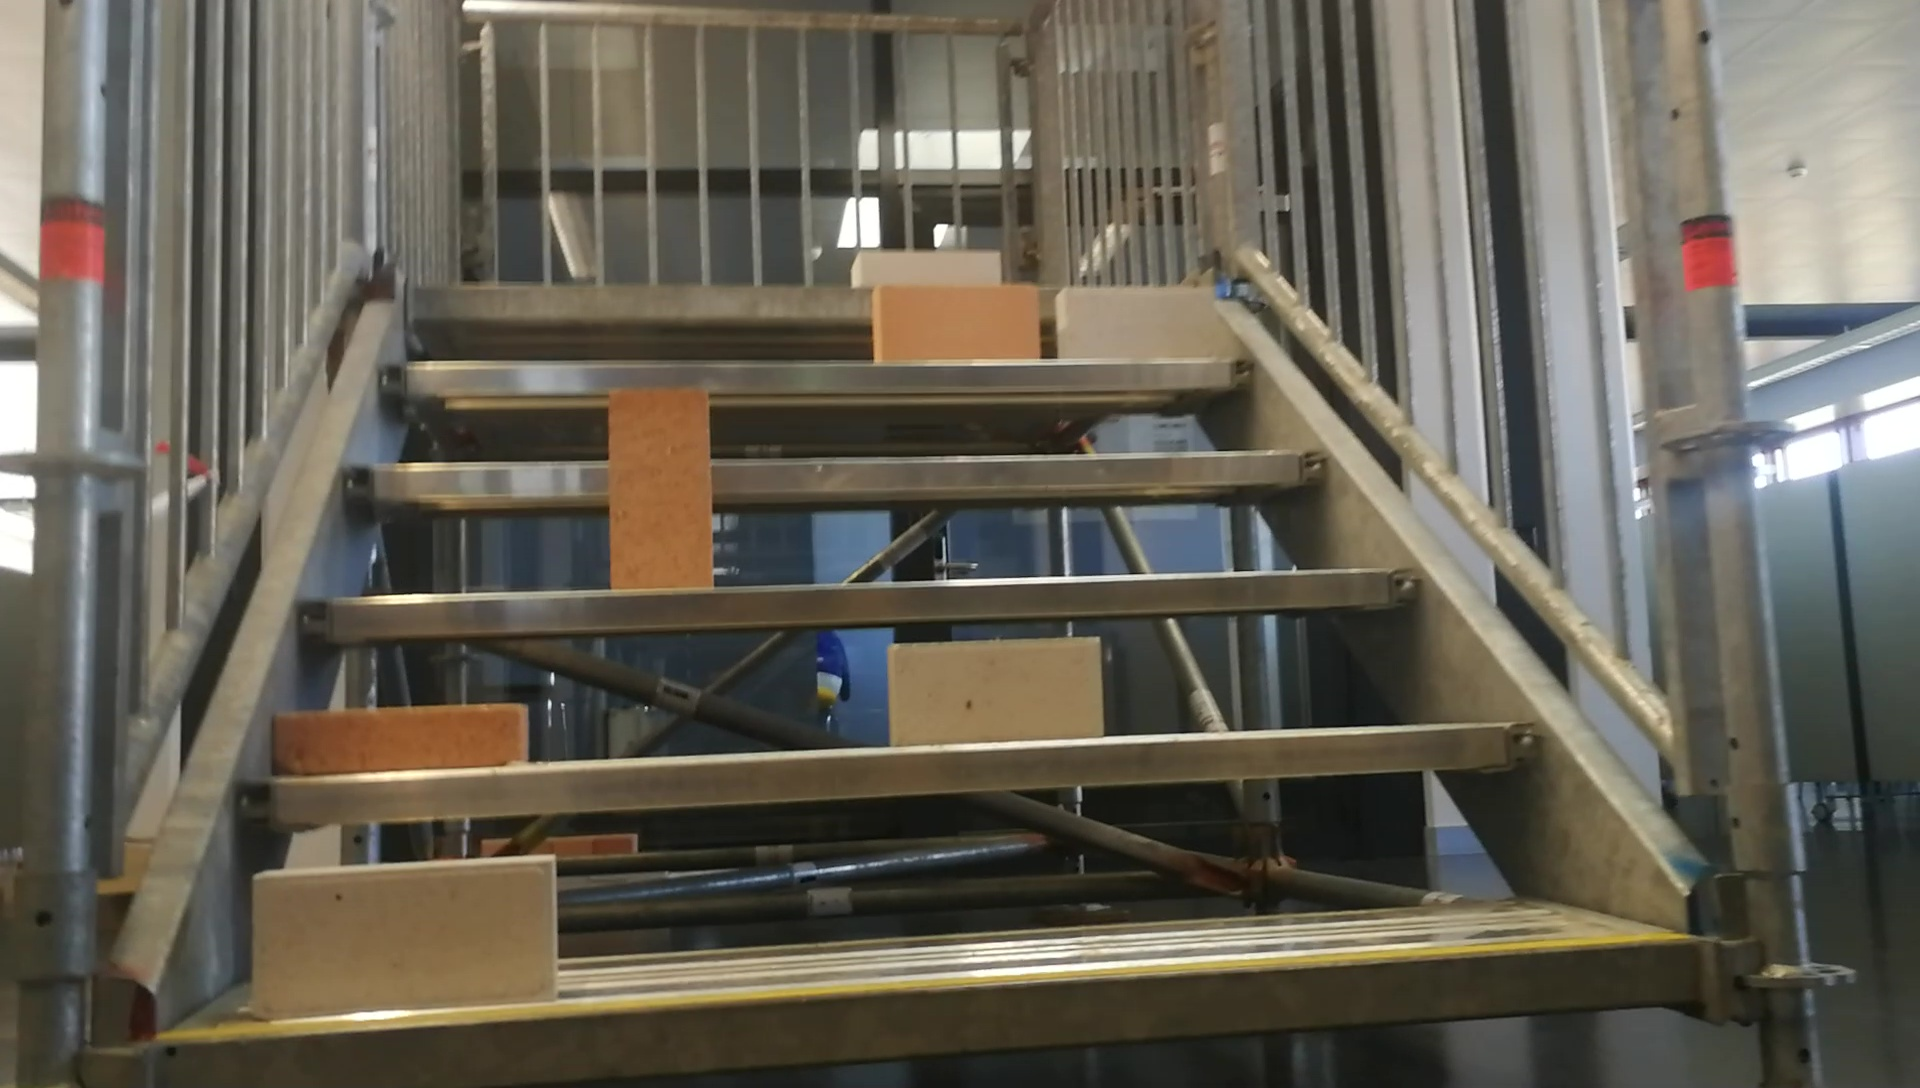brick: (251, 860, 553, 1010), (890, 634, 1098, 746), (611, 386, 708, 588), (277, 706, 522, 768), (874, 285, 1036, 360), (1058, 287, 1209, 357), (856, 248, 997, 285)
edge: (150, 938, 1705, 1080), (235, 721, 1538, 822), (295, 566, 1423, 634), (342, 447, 1328, 496), (377, 357, 1258, 393)
steps: (138, 233, 1725, 1085)
